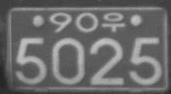0: (51, 36, 85, 85), (75, 11, 99, 32)
2: (89, 36, 124, 85)
5: (128, 37, 163, 85), (14, 37, 47, 84)
9: (49, 11, 72, 33)
우: (102, 11, 124, 32)
